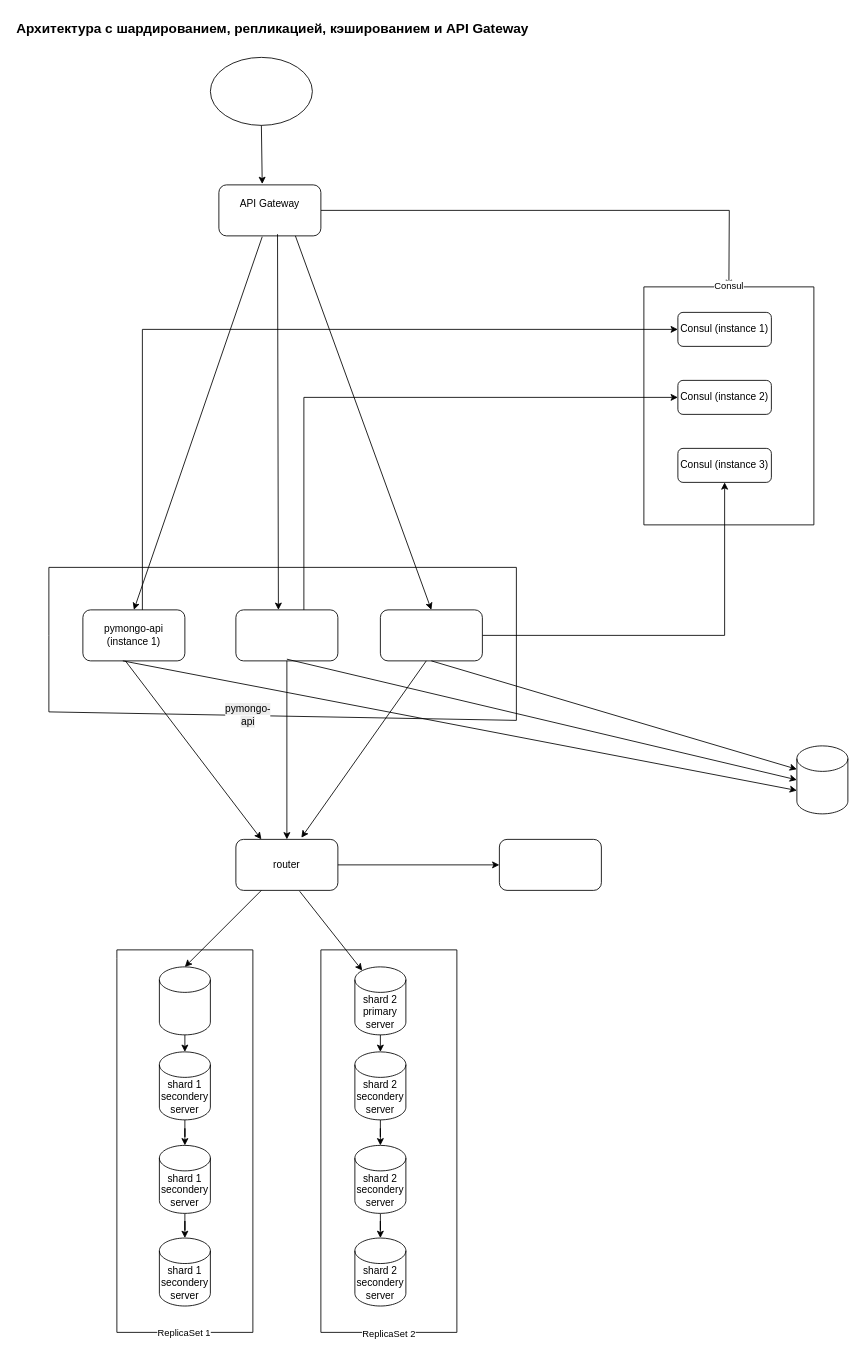
The diagram is 863 pixels wide and 1353 high, and some of its shapes have lost their labels. Each missing label, with the centre of its shape:
config server: the point at 550,864
pymongo-api (instance 2): the point at 286,635
pymongo-api (instance 3): the point at 431,635
redis: the point at 822,779
shard 1 primary server: the point at 184,1000
Клиент: the point at 261,91
